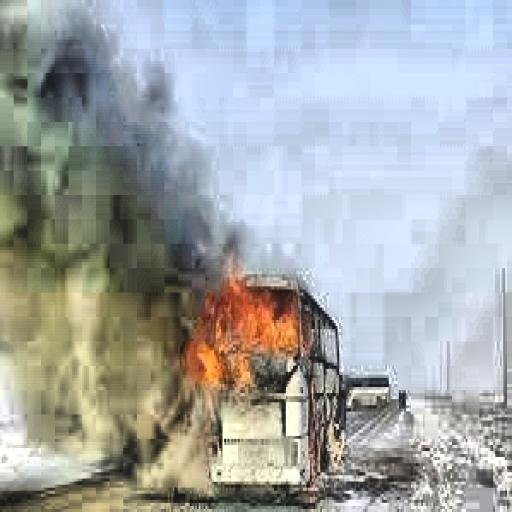fire: (178, 265, 308, 390)
